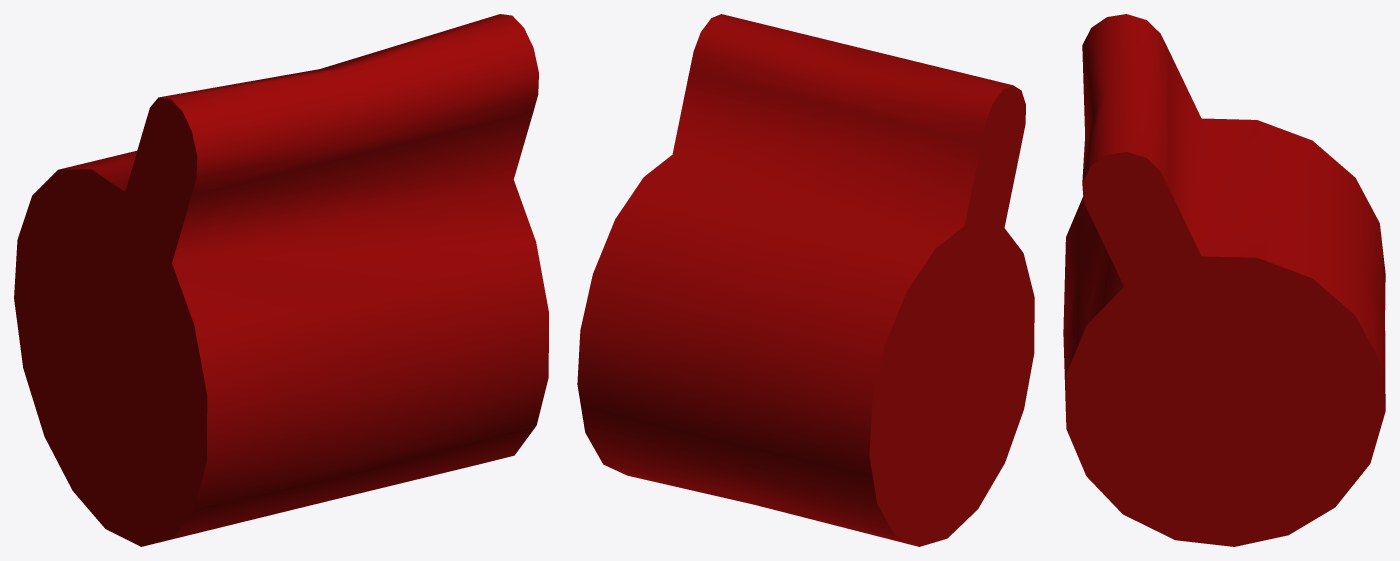
File: original-11.obj
3 views of the same model, side by side, from view 1: azimuth 30°, elevation 25°; view 2: azimuth 150°, elevation 25°; view 3: azimuth 270°, elevation 25° (orthographic). The views are drawn at different scales.
Parts seen in each view (by area): view 1: mesh11/mesh11-geometry#mesh11-geometry; view 2: mesh11/mesh11-geometry#mesh11-geometry; view 3: mesh11/mesh11-geometry#mesh11-geometry.
Part boxes in pixels (x1,y1,x2,y2): mesh11/mesh11-geometry#mesh11-geometry: [14, 14, 548, 546]; mesh11/mesh11-geometry#mesh11-geometry: [577, 14, 1034, 546]; mesh11/mesh11-geometry#mesh11-geometry: [1063, 14, 1385, 546].
Size of the model in its own units: 0.0485 by 0.0648 by 0.0479.
